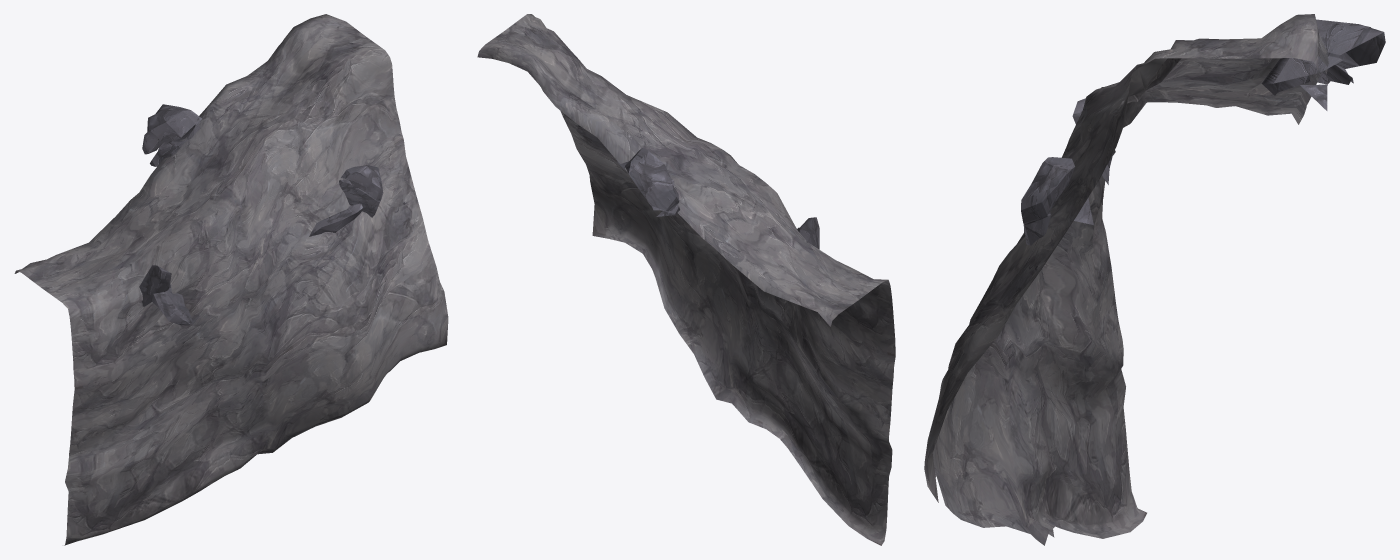
The model's file is Ground Slope (up) 1.fbx.
The picture shows the model from 3 angles, left to right: view 1: azimuth 30°, elevation 25°; view 2: azimuth 150°, elevation 25°; view 3: azimuth 270°, elevation 25°; orthographic projection. The views are drawn at different scales.
Parts seen in each view (by area): view 1: GroundSlopeUp1; view 2: GroundSlopeUp1; view 3: GroundSlopeUp1.
Part boxes in pixels (left/top/right/bottom): GroundSlopeUp1: left=14, top=14, right=448, bottom=545; GroundSlopeUp1: left=477, top=14, right=895, bottom=545; GroundSlopeUp1: left=924, top=14, right=1385, bottom=545.
Bounding box in the file's own units: 10.09 × 12.33 × 6.89.
3 materials, 3 textured.
